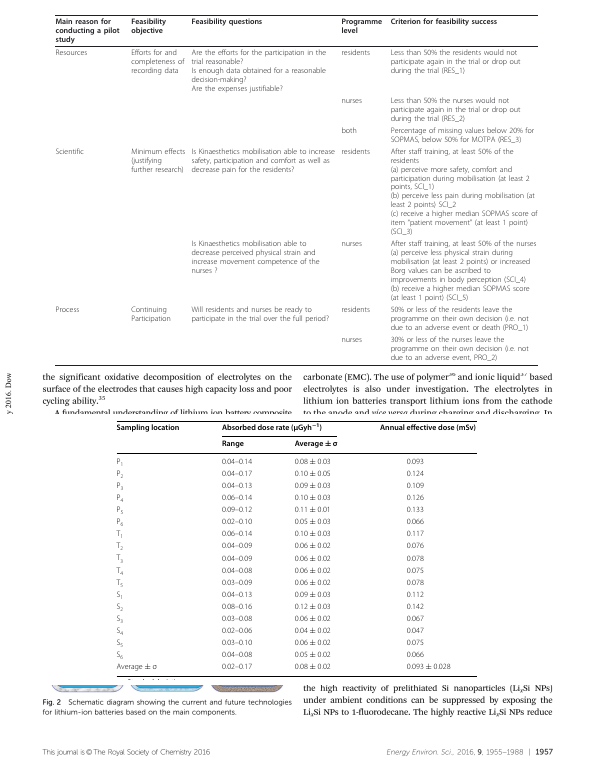borderless: (54, 13, 538, 365), (115, 419, 477, 676)
cell: (390, 147, 538, 237), (390, 239, 537, 303), (190, 48, 327, 93), (190, 239, 320, 276), (190, 147, 336, 174), (390, 305, 530, 333), (390, 335, 530, 363), (390, 48, 521, 76), (390, 96, 521, 123), (190, 305, 330, 324), (390, 126, 535, 144), (55, 17, 120, 44), (130, 48, 185, 76), (130, 147, 186, 174), (221, 422, 323, 433), (379, 423, 477, 433), (390, 17, 498, 26), (130, 305, 172, 324), (340, 17, 383, 35), (130, 17, 167, 35), (190, 17, 263, 26), (116, 423, 180, 433), (294, 439, 338, 449), (406, 663, 452, 672), (115, 663, 158, 672), (294, 457, 332, 467), (294, 469, 332, 479), (294, 578, 332, 588), (294, 590, 332, 600), (294, 482, 332, 491), (294, 494, 332, 503), (294, 506, 332, 515), (294, 518, 332, 527), (294, 530, 332, 539), (294, 542, 332, 551), (294, 554, 332, 563), (294, 566, 332, 575), (294, 603, 332, 612), (294, 615, 332, 624), (294, 627, 332, 636), (294, 639, 332, 648), (294, 651, 332, 660), (294, 663, 332, 672), (55, 48, 88, 58), (221, 457, 253, 467), (221, 469, 253, 479), (221, 578, 253, 588), (221, 590, 253, 600), (340, 48, 371, 58), (340, 305, 371, 315), (221, 482, 253, 491), (221, 494, 253, 503), (221, 506, 253, 515), (221, 518, 253, 527), (221, 530, 253, 539), (221, 542, 253, 551), (221, 554, 253, 563), (221, 566, 253, 575), (221, 603, 253, 612), (221, 615, 253, 624), (221, 627, 253, 636), (221, 639, 253, 648), (221, 651, 253, 660), (221, 663, 253, 672), (54, 147, 85, 156), (340, 147, 371, 156), (54, 305, 80, 315), (221, 439, 245, 449), (340, 239, 363, 249), (340, 335, 363, 345), (340, 96, 363, 105), (406, 457, 425, 467), (406, 469, 425, 479), (406, 578, 425, 588), (406, 590, 425, 600), (406, 482, 425, 491), (406, 494, 425, 503), (406, 506, 425, 515), (406, 518, 425, 527), (406, 530, 425, 539), (406, 542, 425, 551), (406, 554, 425, 563), (406, 566, 425, 575), (406, 603, 425, 612), (406, 615, 425, 624), (406, 627, 425, 636), (406, 639, 425, 648), (406, 651, 425, 660), (340, 126, 358, 135), (115, 530, 124, 541), (115, 542, 124, 553), (115, 554, 124, 565), (115, 566, 124, 577), (115, 578, 124, 589), (115, 590, 124, 601), (115, 639, 124, 650), (115, 651, 124, 662), (115, 603, 124, 613), (115, 615, 124, 625), (115, 627, 124, 637), (116, 457, 124, 468), (116, 469, 124, 480), (116, 518, 124, 529), (116, 482, 124, 492), (116, 494, 124, 504), (116, 506, 124, 516)
